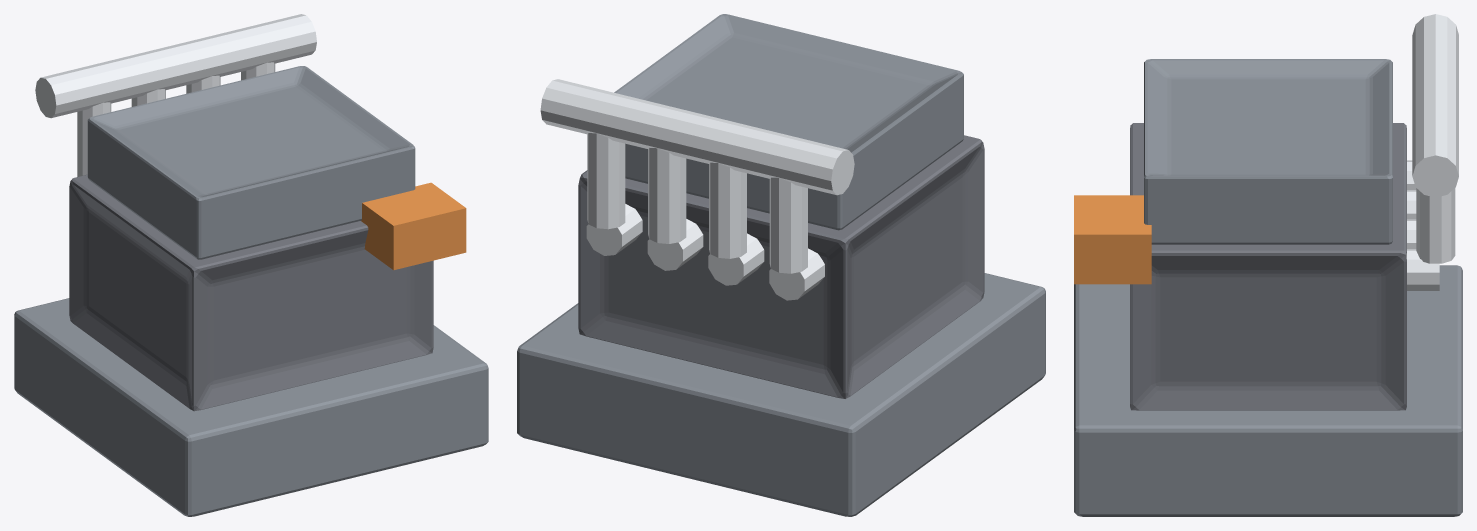
The model's file is engine_petrol.glb.
The picture shows the model from 3 angles, left to right: view 1: azimuth 30°, elevation 25°; view 2: azimuth 150°, elevation 25°; view 3: azimuth 270°, elevation 25°; orthographic projection. The views are drawn at different scales.
Parts seen in each view (by area): view 1: engine_petrol; view 2: engine_petrol; view 3: engine_petrol.
Boxes of the visible parts, x1,y1,x2,y2 form: engine_petrol: (14,14,488,516); engine_petrol: (517,14,1045,516); engine_petrol: (1074,14,1462,516).
Size of the model in its own units: 1 by 0.997 by 1.
